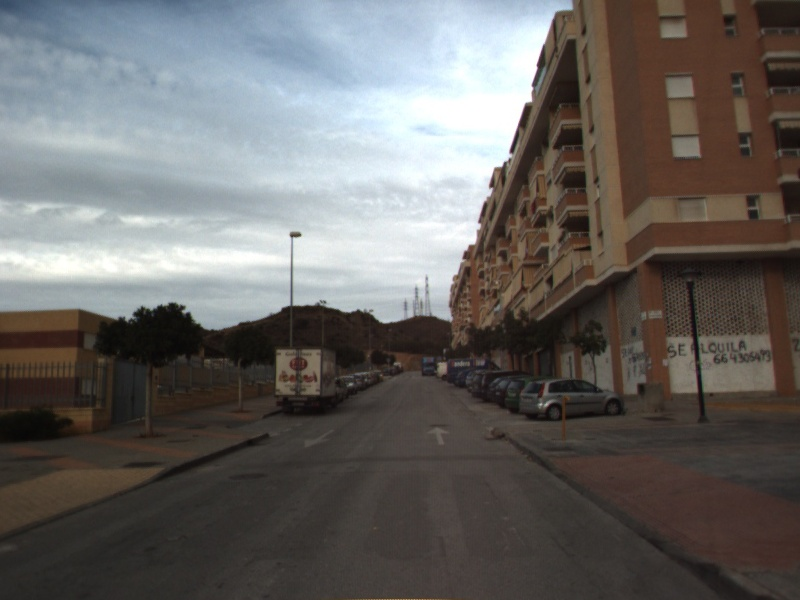STRAIGHT: (425, 424, 452, 446)
